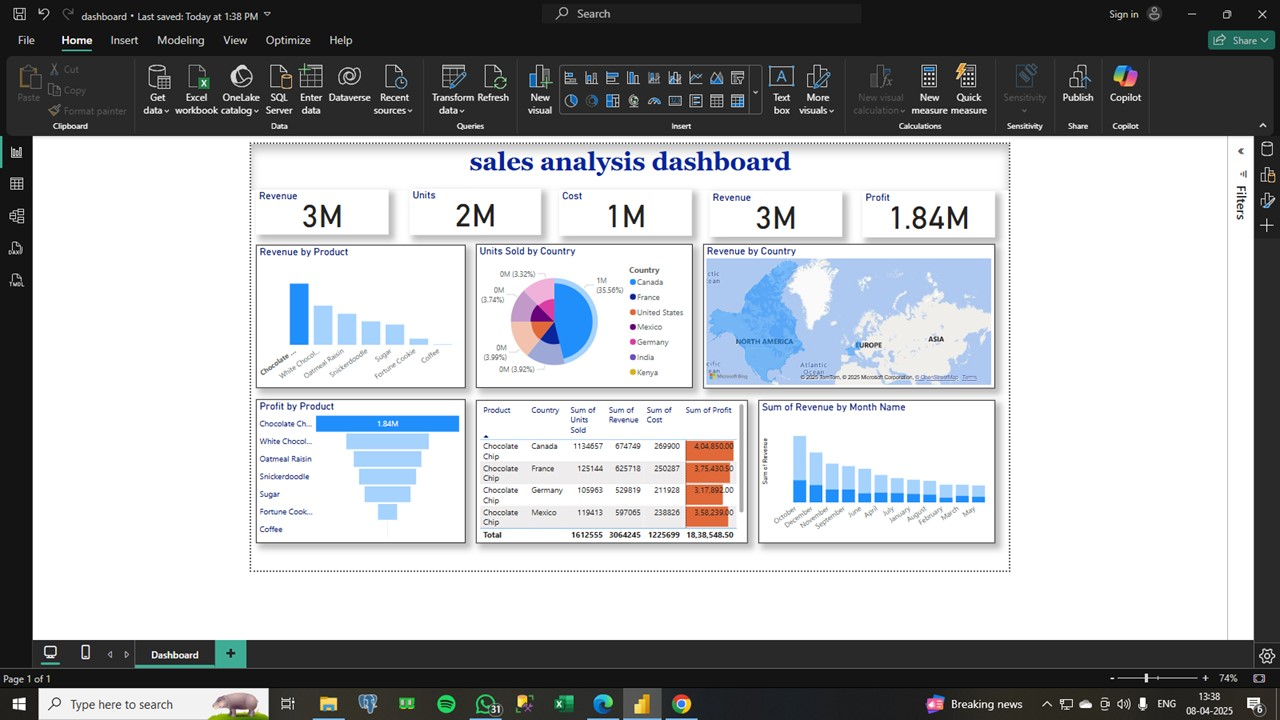

This screenshot's page, from the dashboard's own definition file:
{"tool":"powerbi","page":{"name":"Dashboard","canvas":[1280,720],"ordinal":0},"visuals":[{"type":"textbox","box":[0,0,1280,78.1],"z":0},{"type":"card","title":"Revenue","fields":{"Values":["Sum(sales data.Revenue)"]},"box":[7.5,77.6,223.9,76.1],"z":1000},{"type":"card","title":"Units","fields":{"Values":["Sum(sales data.Units Sold)"]},"box":[267.2,76.1,222.4,77.6],"z":2000},{"type":"card","title":"Cost","fields":{"Values":["Sum(sales data.Cost)"]},"box":[520.9,77.6,223.9,77.6],"z":3000},{"type":"card","title":"Revenue","fields":{"Values":["Sum(sales data.Revenue)"]},"box":[774.3,79.7,224.3,77],"z":4000},{"type":"card","title":"Profit","fields":{"Values":["Sum(sales data.Profit)"]},"box":[1032.8,79.1,223.9,77.6],"z":5000},{"type":"columnChart","title":"Revenue by Product","fields":{"Y":["Sum(sales data.Revenue)"],"Category":["sales data.Product"]},"box":[8.1,170.2,354.2,241.9],"z":6000},{"type":"pieChart","title":"Units Sold by Country","fields":{"Y":["Sum(sales data.Units Sold)"],"Category":["sales data.Country"]},"box":[379.7,169,365.8,243.1],"z":7000},{"type":"filledMap","title":"Revenue by Country","fields":{"Category":["sales data.Country"]},"box":[764,168.4,493.1,243.9],"z":8000},{"type":"funnel","title":"Profit by Product","fields":{"Category":["sales data.Product"],"Y":["Sum(sales data.Profit)"]},"box":[8,431,354,242.5],"z":9000},{"type":"tableEx","fields":{"Values":["sales data.Product","sales data.Country","Sum(sales data.Units Sold)","Sum(sales data.Revenue)","Sum(sales data.Cost)","Sum(sales data.Profit)"]},"box":[379.1,431.8,459.1,241.8],"z":10000},{"type":"columnChart","fields":{"Category":["sales data.Month Name"],"Y":["Sum(sales data.Revenue)"]},"box":[856.8,432.1,400,242],"z":10001}]}

Visuals, with their boxes on the page's 1280x720 design canvas (x1, y1, x2, y2). These are canvas units, not pixel positions in the 1280x720 screenshot, which may show the page scaled, cropped or inside an application window:
textbox: locate(0, 0, 1280, 78)
"Revenue" card: locate(8, 78, 231, 154)
"Units" card: locate(267, 76, 490, 154)
"Cost" card: locate(521, 78, 745, 155)
"Revenue" card: locate(774, 80, 999, 157)
"Profit" card: locate(1033, 79, 1257, 157)
"Revenue by Product" columnChart: locate(8, 170, 362, 412)
"Units Sold by Country" pieChart: locate(380, 169, 746, 412)
"Revenue by Country" filledMap: locate(764, 168, 1257, 412)
"Profit by Product" funnel: locate(8, 431, 362, 674)
tableEx - sales data.Product x sales data.Country: locate(379, 432, 838, 674)
columnChart - sales data.Month Name x Sum(sales data.Revenue): locate(857, 432, 1257, 674)
